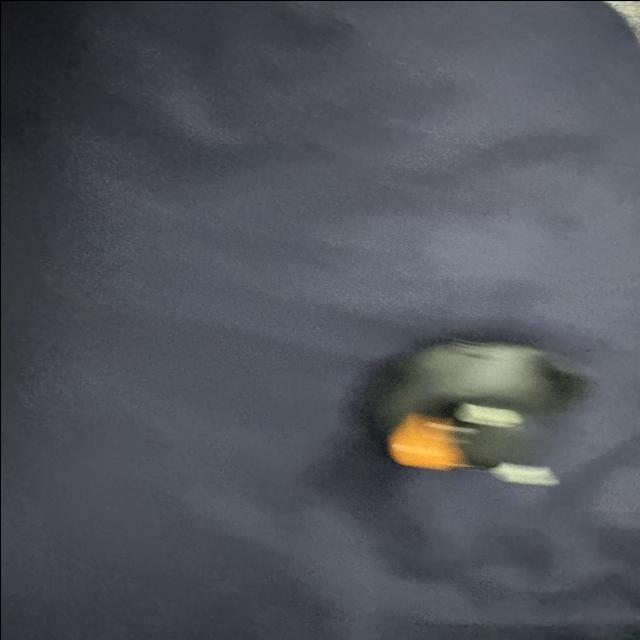rubber-duck: (364, 339, 588, 485)
